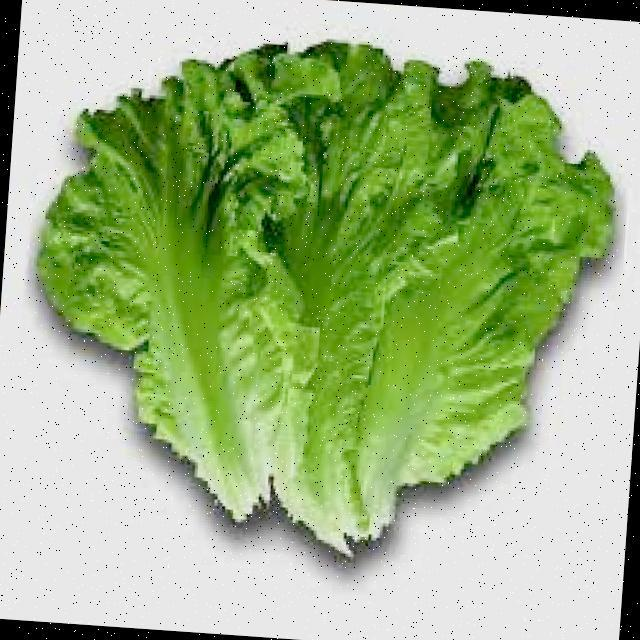Healthy: (146, 85, 542, 421)
